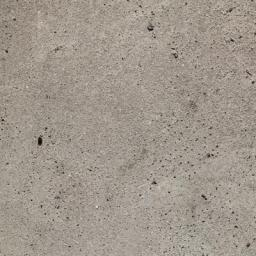FOD: (36, 136, 47, 152)
